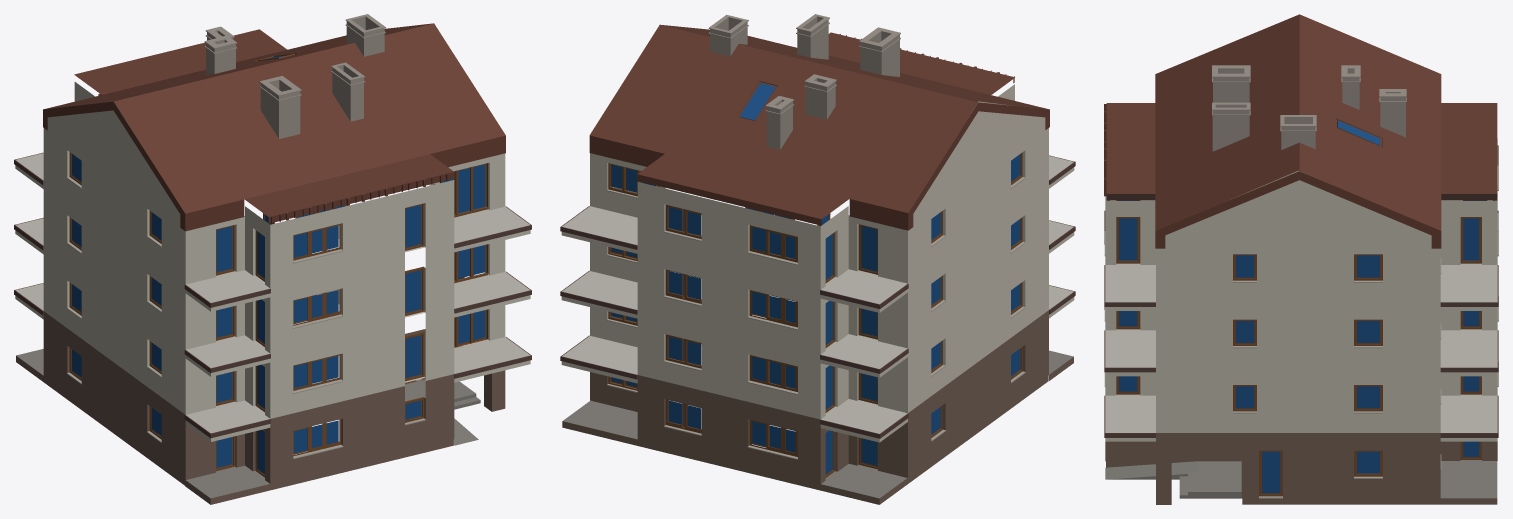
File: maison-ville.glb
The picture shows the model from 3 angles, left to right: view 1: azimuth 30°, elevation 25°; view 2: azimuth 150°, elevation 25°; view 3: azimuth 270°, elevation 25°; orthographic projection.
Size of the model in its own units: 6.09 by 6.34 by 6.46.
